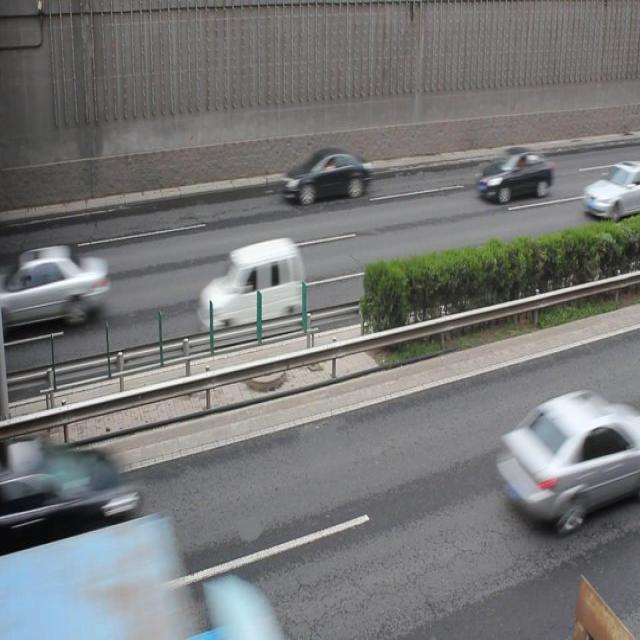car: (494, 392, 631, 528), (199, 239, 307, 333), (9, 245, 106, 328), (284, 148, 370, 203), (477, 150, 551, 202), (581, 167, 640, 221)
